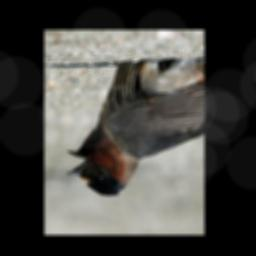Swallow: (64, 55, 204, 197)
